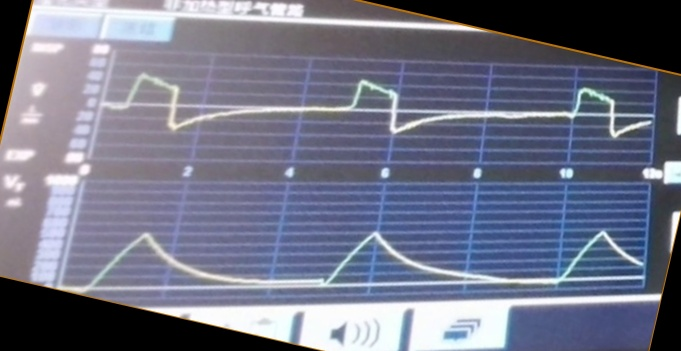Accumulation Flow: (113, 64, 636, 162)
Volume: (80, 199, 642, 294)
